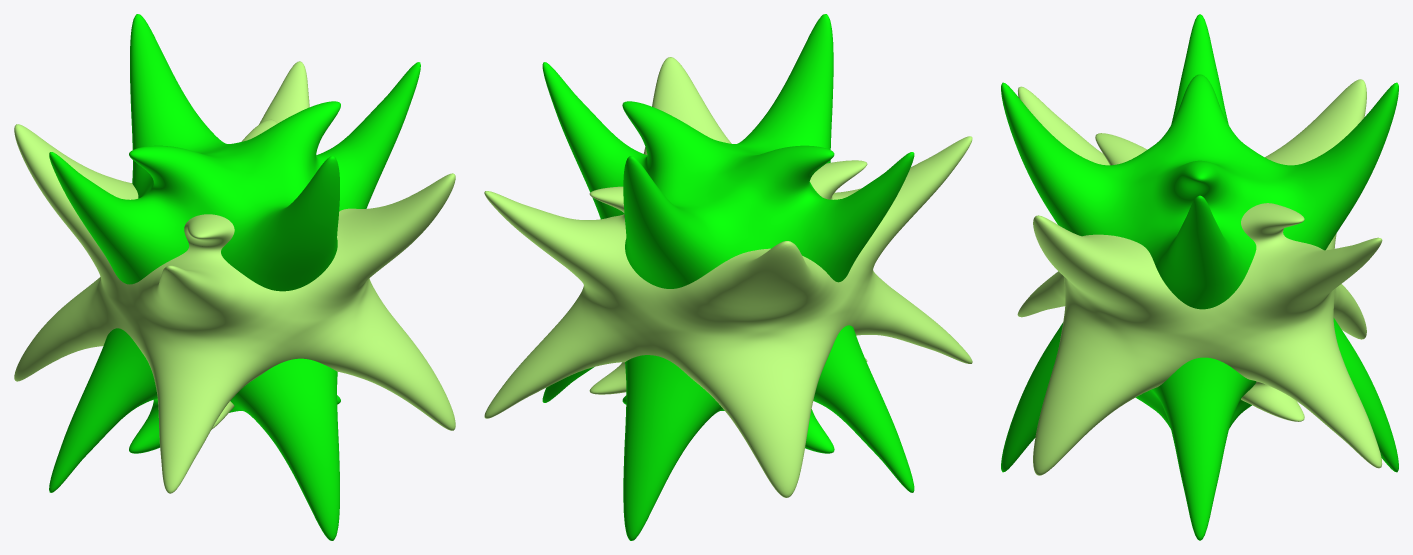
Rendered from xPS_AR1.glb.
The picture shows the model from 3 angles, left to right: view 1: azimuth 30°, elevation 25°; view 2: azimuth 150°, elevation 25°; view 3: azimuth 270°, elevation 25°; orthographic projection.
Visible parts, largest first — view 1: Icosphere.008, Icosphere.009; view 2: Icosphere.008, Icosphere.009; view 3: Icosphere.009, Icosphere.008.
Boxes of the visible parts, <box> form: Icosphere.008: <box>49,14,420,540</box>; Icosphere.009: <box>14,61,455,493</box>; Icosphere.008: <box>542,14,914,540</box>; Icosphere.009: <box>484,57,972,497</box>; Icosphere.009: <box>1017,79,1382,475</box>; Icosphere.008: <box>1001,14,1398,540</box>.
Size of what is drawn, in the model's own units: 0.4189 by 0.4152 by 0.3848.
